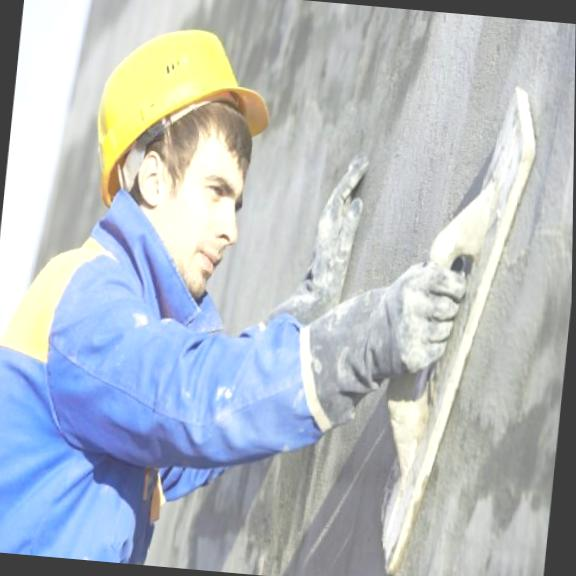no_safety_vest: (0, 250, 240, 571)
